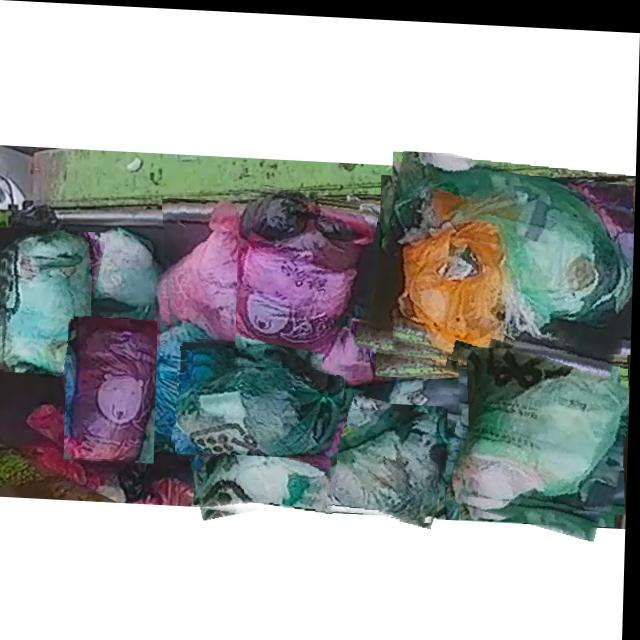general_trashbag: (395, 148, 634, 359), (463, 343, 632, 497), (179, 354, 341, 454), (315, 409, 440, 516), (3, 233, 93, 373), (206, 441, 335, 508)
other_trashbag: (237, 188, 374, 365), (167, 199, 253, 344), (69, 321, 157, 458)
